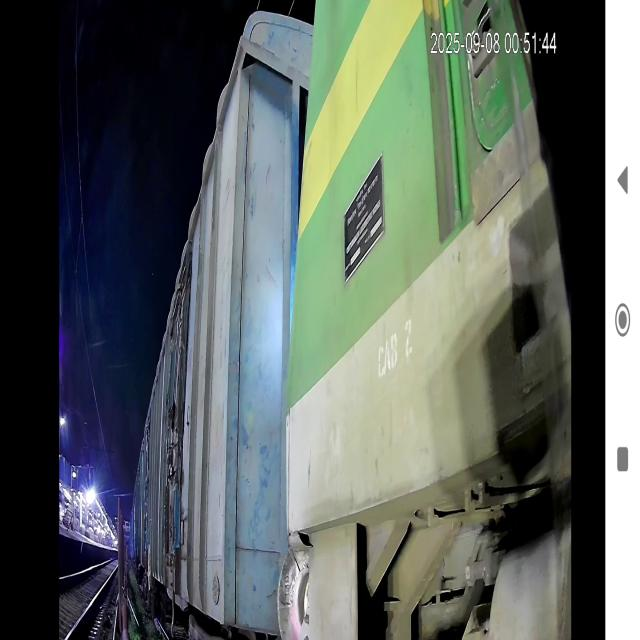joint: (199, 4, 376, 640)
